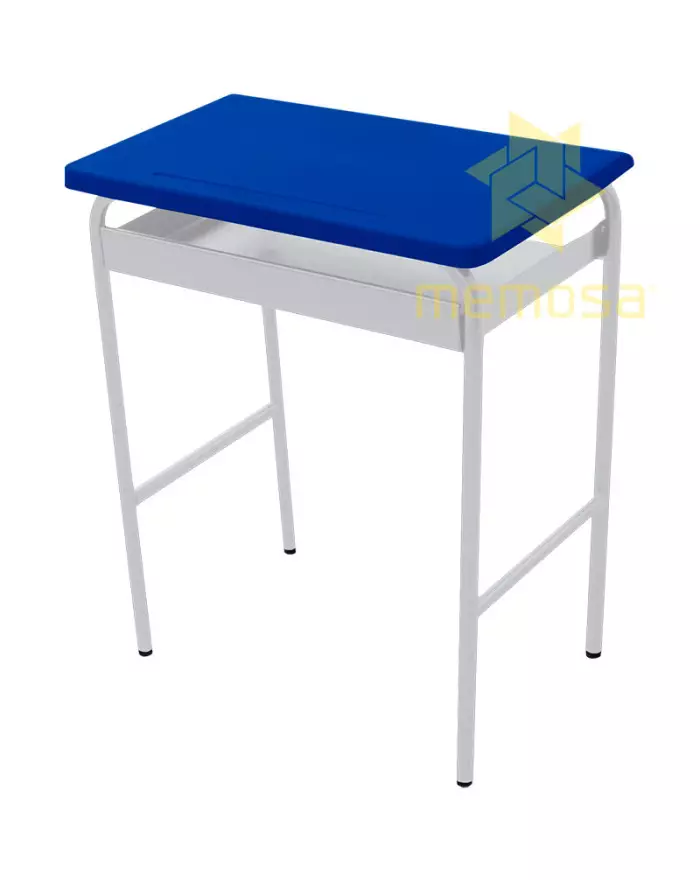m01: (65, 92, 635, 788)
